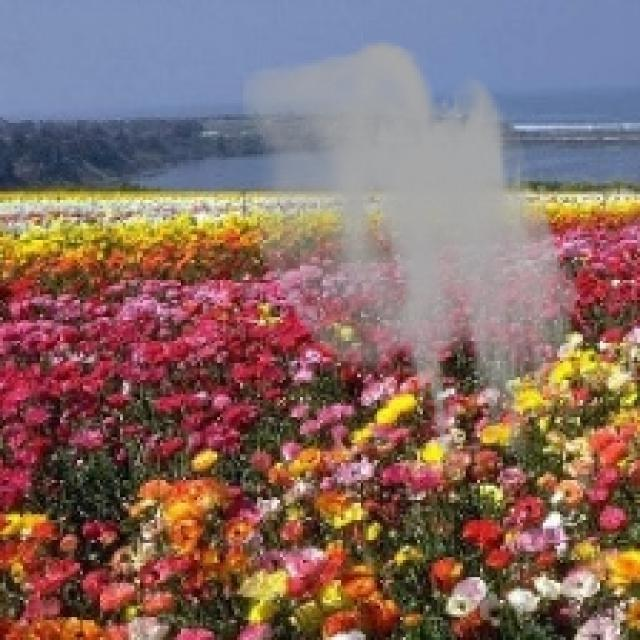Smoke: (240, 40, 583, 457)
